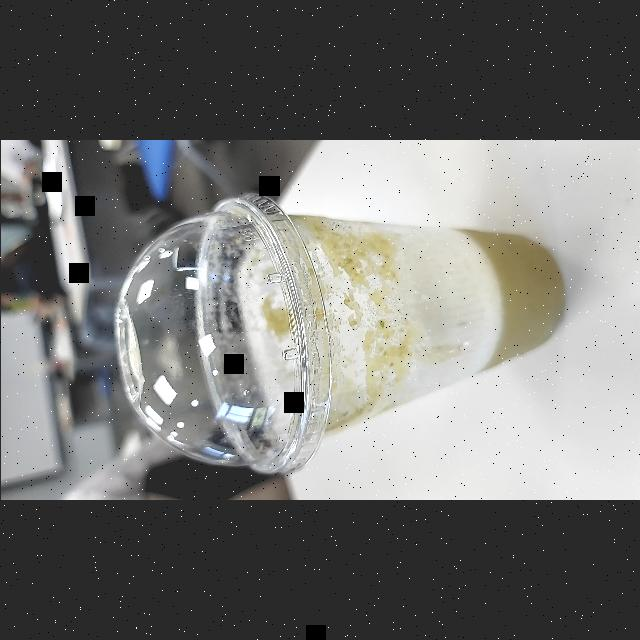plastic_cup: (110, 192, 568, 476)
plastic_cup_lid: (111, 186, 331, 477)
